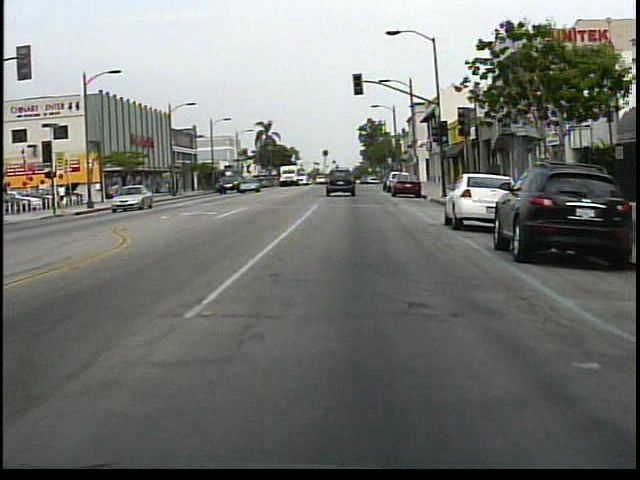person: (59, 182, 70, 211)
